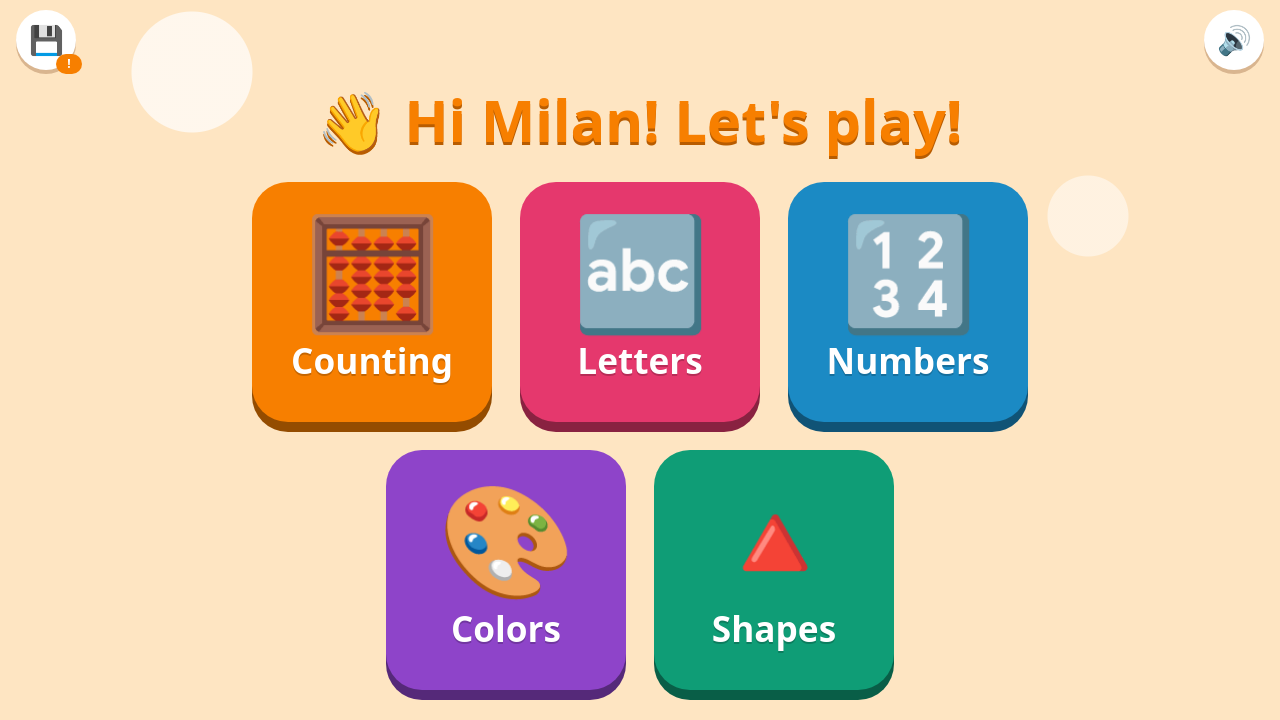
Test: Play offline › says why a download failed, and can try again
This screenshot has width=1280, height=720.
What coordinates should you click on to do the following:
click the button named "Play offline"
I would click on:
 (46, 40)
Its box is [16,10,76,70].
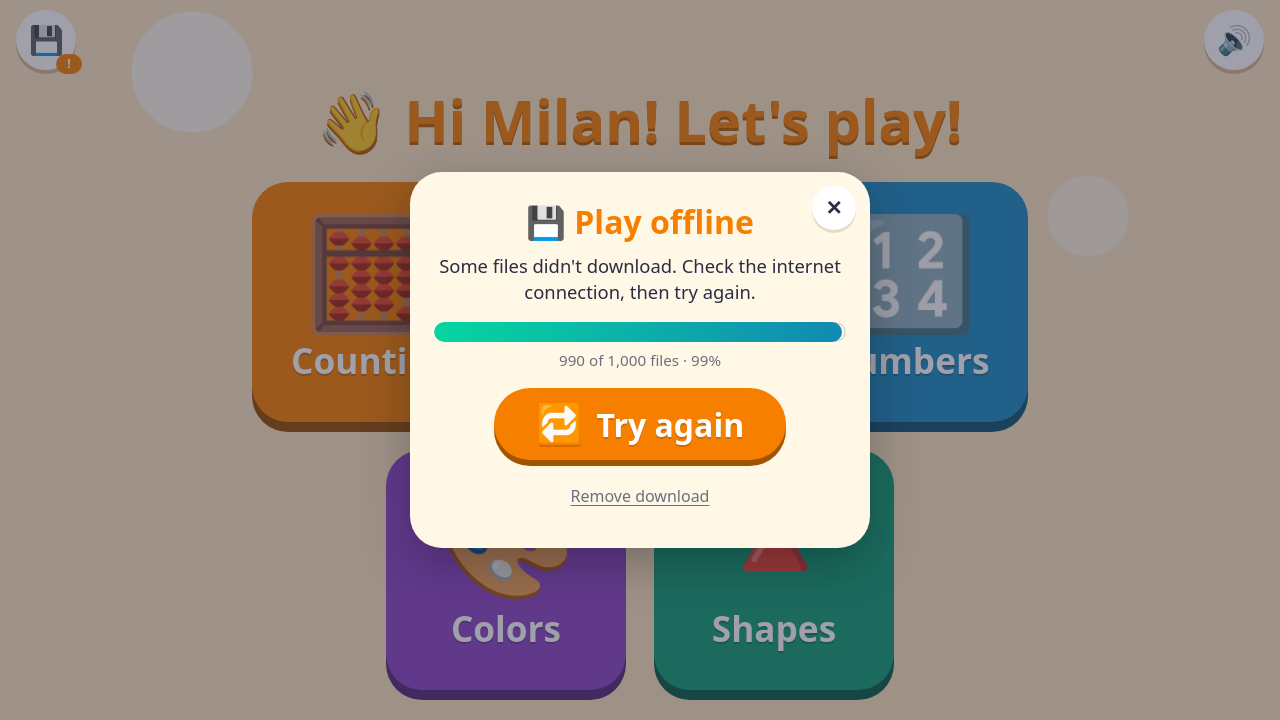
Now the dialog "Play offline" shows "Some files didn't download.", box [439,253,841,304]
What coordinates should you click on to do the following:
click the button "🔁 Try again"
I would click on:
 (640, 424)
Its box is [494,388,786,460].
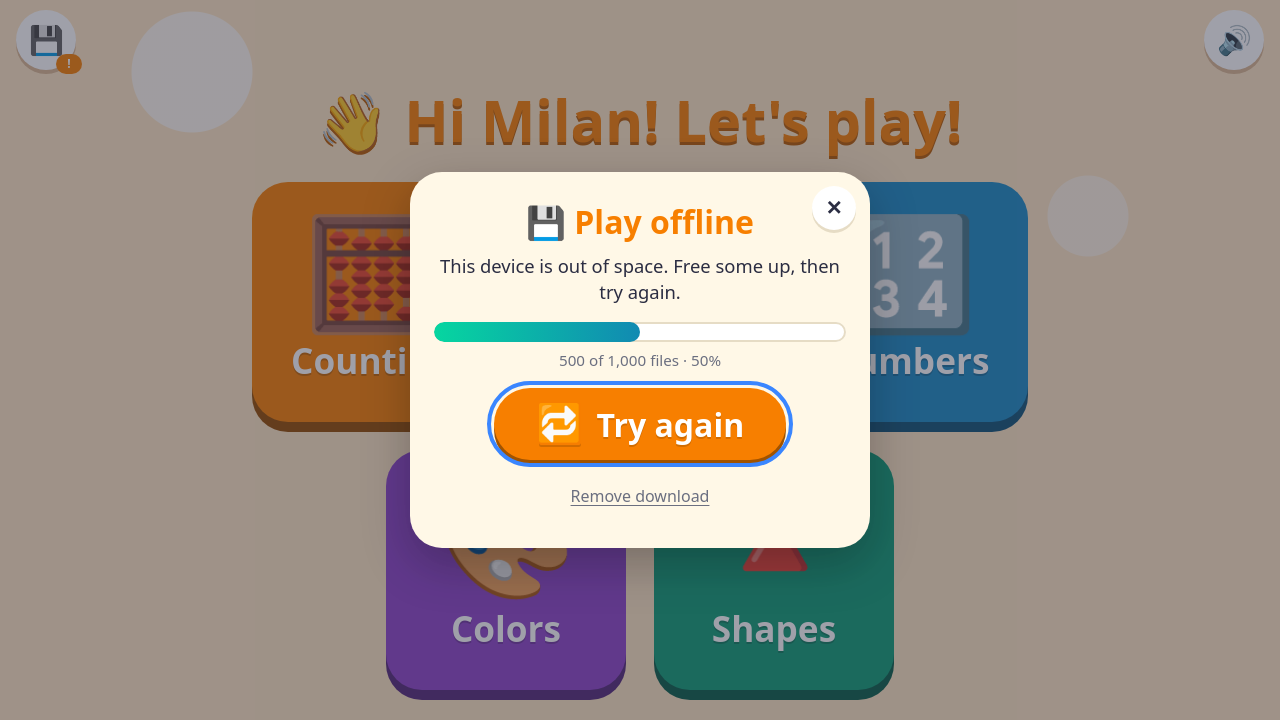
Now the dialog "Play offline" shows "This device is out of space.", box [440,253,840,304]
